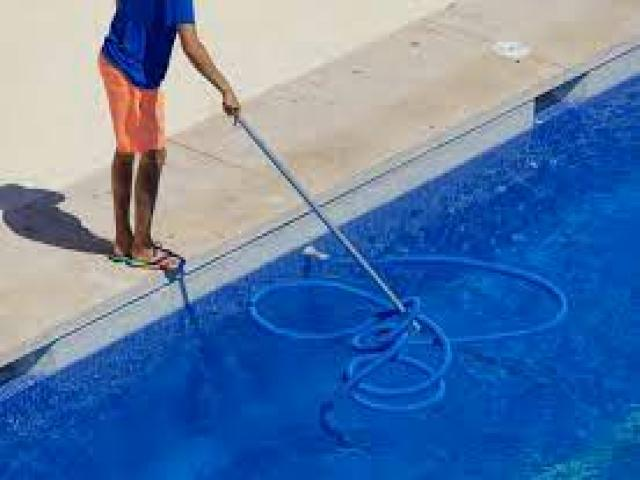out of water: (88, 0, 237, 267)
